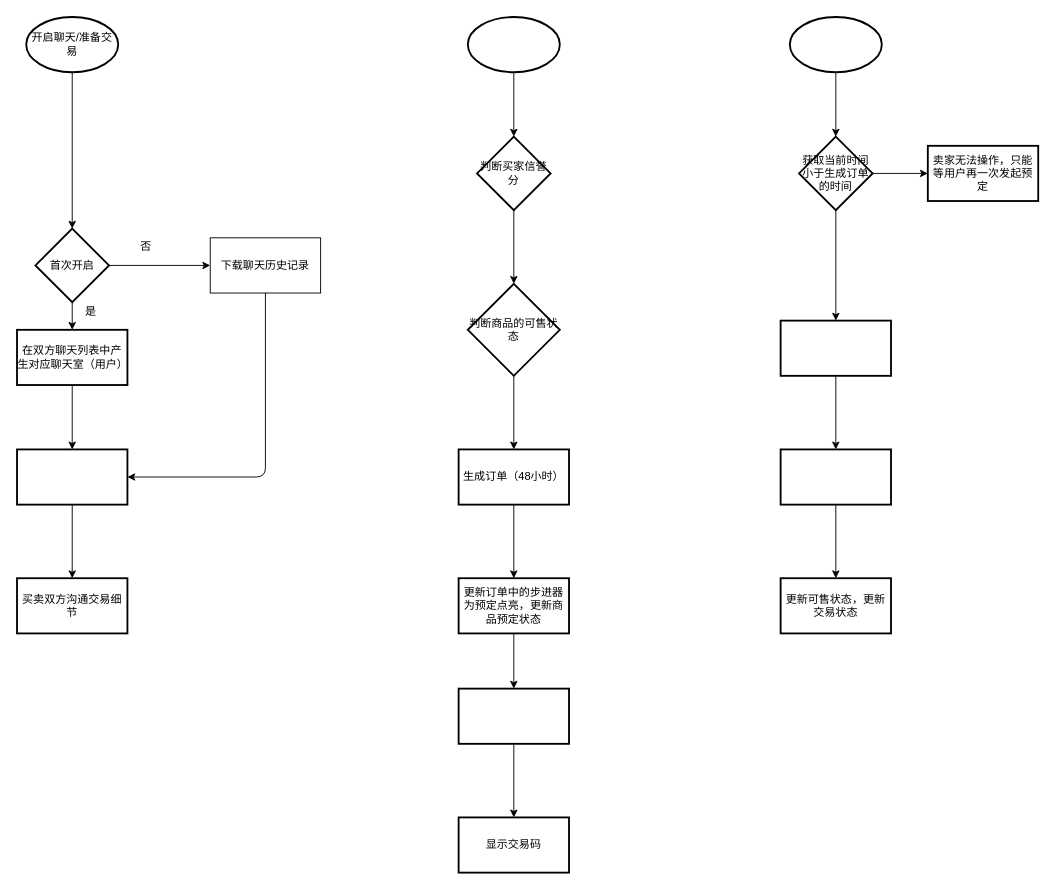
This 1054x889 diagram has some shape labels left out. The shapes that lost their labels are listed below. From the top down, each one's centre as x and y in pixels, then its label:
At point (513, 44): "买家点击预定".
At point (835, 44): "卖家查看订单".
At point (835, 347): "卖家输入交易码".
At point (72, 476): "创建该商品的卡片由买家进行发送".
At point (835, 476): "达成交易".
At point (513, 715): "生成唯一交易码".
